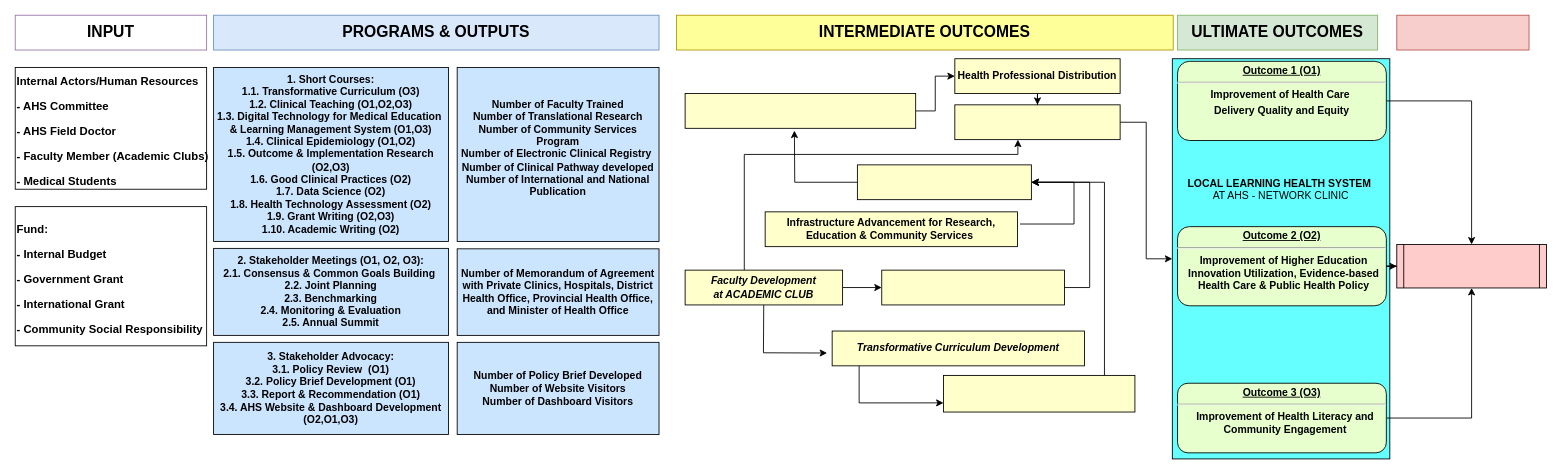
The diagram is 1562 pixels wide and 474 high, and some of its shapes have lost their labels. Each missing label, with the centre of its shape:
"COMMUNITY ENGAGEMENT" goes at point (1037, 122).
"IMPACT" goes at point (1462, 32).
"Increase of Education, Research & Service Capacity" goes at point (944, 182).
"Increase of Graduates Quality & Numbers" goes at point (800, 110).
"Population Health Status and Wellbeing (PEOPLE)" goes at point (1471, 266).
"TRANSFORMATIVE LEARNING" goes at point (1039, 393).
"TRANSLATIONAL RESEARCH" goes at point (972, 287).
